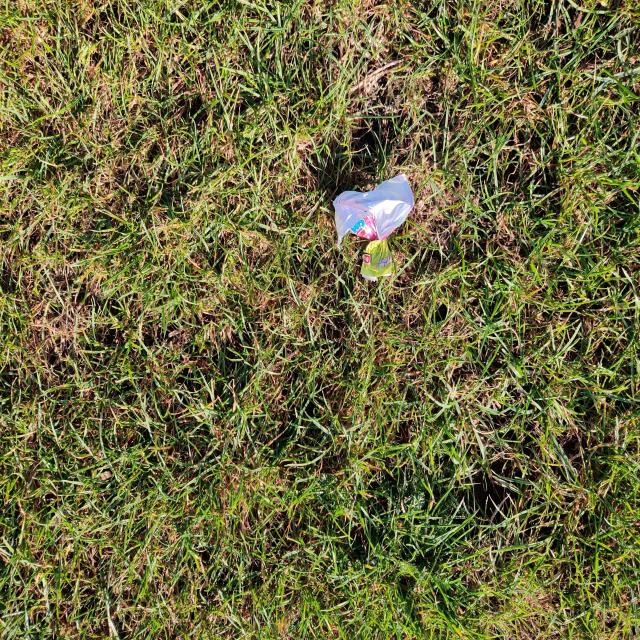litter: (333, 173, 415, 282)
